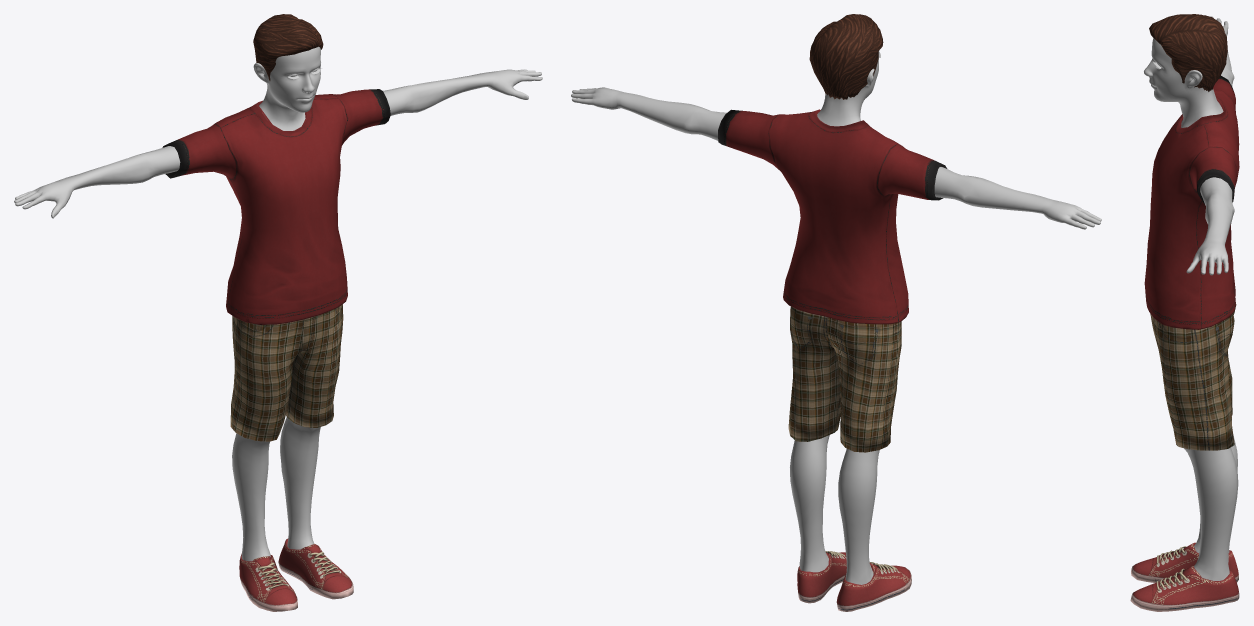
Rendered from boy.obj.
3 renders of one model, left to right at view 1: azimuth 30°, elevation 25°; view 2: azimuth 150°, elevation 25°; view 3: azimuth 270°, elevation 25°, orthographic.
Visible parts, largest first — view 1: Tops, Body, Bottoms, Shoes, Hair; view 2: Tops, Body, Bottoms, Hair, Shoes; view 3: Tops, Body, Bottoms, Shoes, Hair.
Part boxes in pixels (x1,y1,x2,y2): Tops: (162, 89, 390, 324); Body: (14, 46, 542, 561); Bottoms: (230, 304, 343, 441); Shoes: (239, 538, 353, 611); Hair: (253, 14, 323, 80); Tops: (718, 109, 947, 324); Body: (571, 51, 1101, 584); Bottoms: (788, 306, 901, 452); Hair: (809, 14, 883, 99); Shoes: (797, 551, 911, 611); Tops: (1144, 76, 1239, 329); Body: (1144, 16, 1238, 580); Bottoms: (1150, 302, 1236, 450); Shoes: (1130, 542, 1239, 611); Hair: (1149, 14, 1227, 91).
Size of the model in its own units: 166 by 171 by 29.48.
